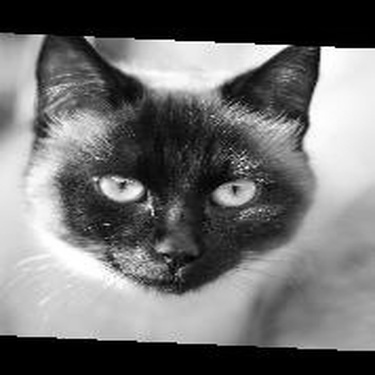cat: (15, 33, 323, 349)
